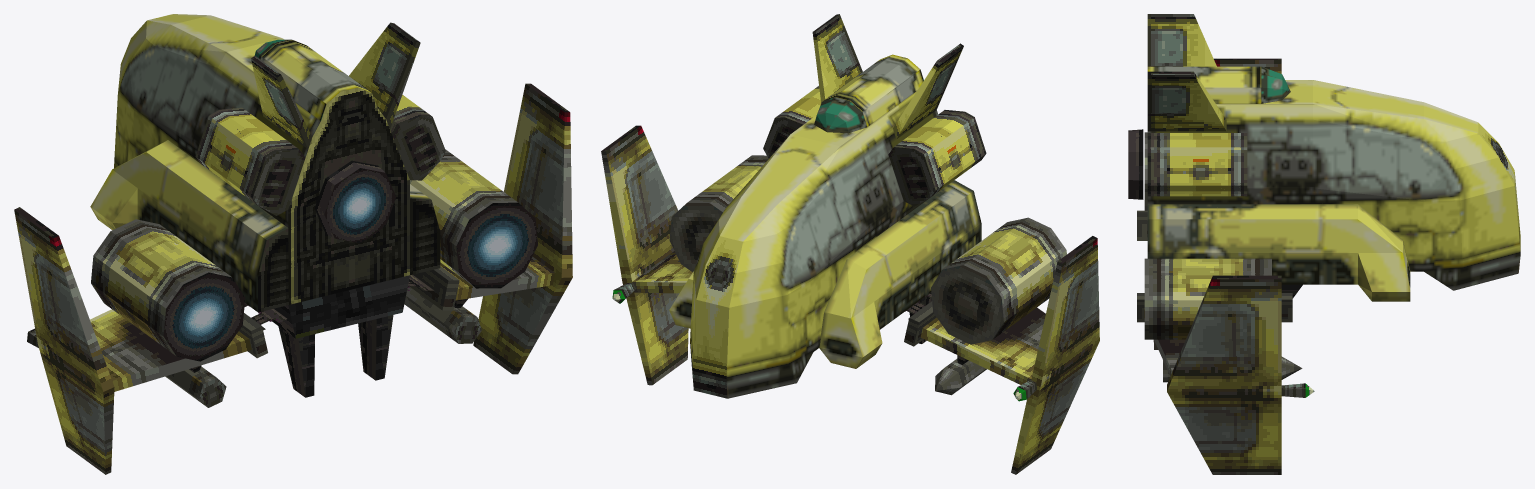
Rendered from z_rusei.gltf.
3 views of the same model, side by side, from view 1: azimuth 30°, elevation 25°; view 2: azimuth 150°, elevation 25°; view 3: azimuth 270°, elevation 25° (orthographic). The views are drawn at different scales.
Visible parts, largest first — view 1: Object 1, Object 2, Object 3; view 2: Object 1, Object 2, Object 3; view 3: Object 1, Object 3, Object 2.
Boxes of the visible parts, x1,y1,x2,y2 form: Object 1: (90, 14, 445, 397); Object 2: (14, 207, 286, 474); Object 3: (404, 83, 572, 374); Object 1: (669, 14, 986, 398); Object 2: (904, 217, 1099, 474); Object 3: (601, 125, 768, 385); Object 1: (1128, 14, 1520, 349); Object 3: (1137, 258, 1314, 474); Object 2: (1137, 58, 1281, 240).
Size of the model in its own units: 76.8 by 55.87 by 57.78.
Materials: 10 (10 with a texture image).
